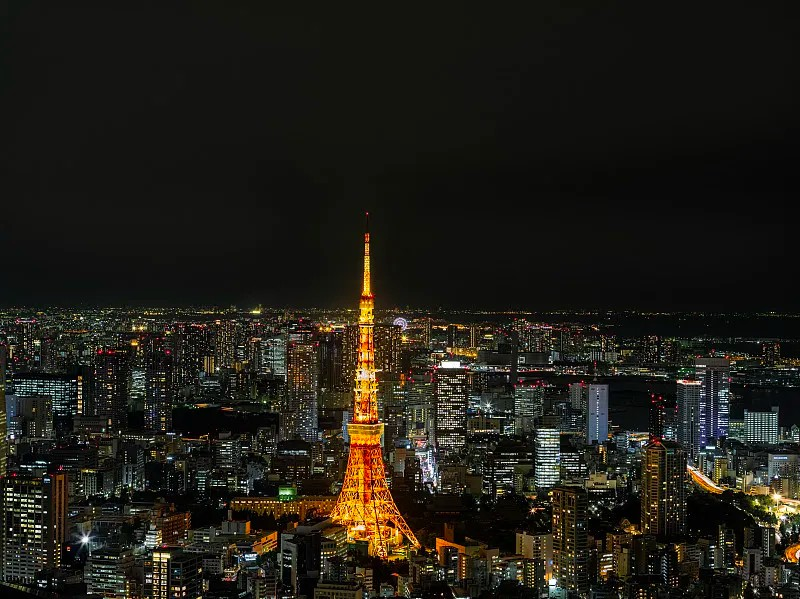Tokyo: (329, 207, 422, 563)
